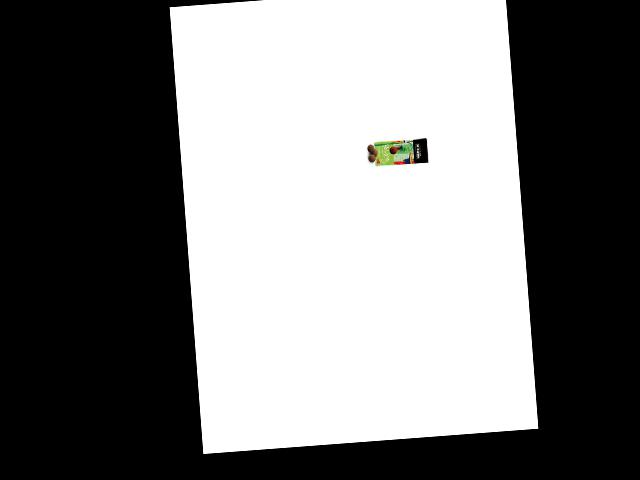chocolate: (372, 132, 430, 170)
